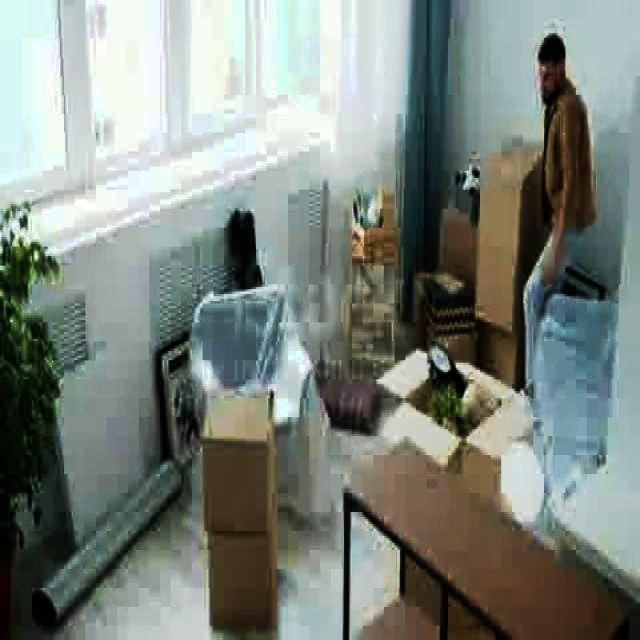Box: (198, 410, 282, 522), (200, 526, 279, 628)
